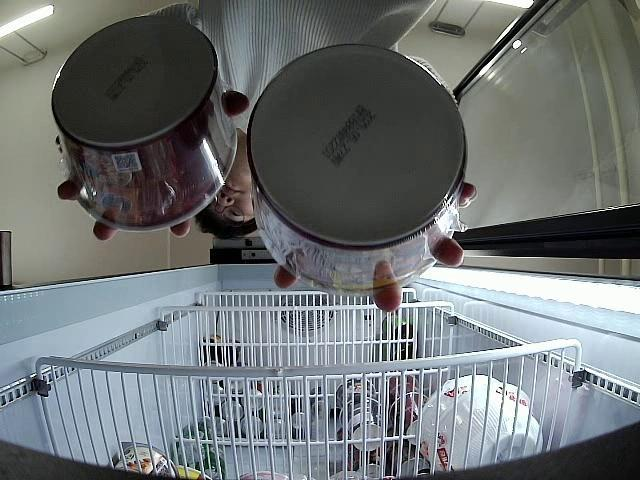05_nuguri_L: (248, 43, 468, 292), (50, 13, 237, 232)
